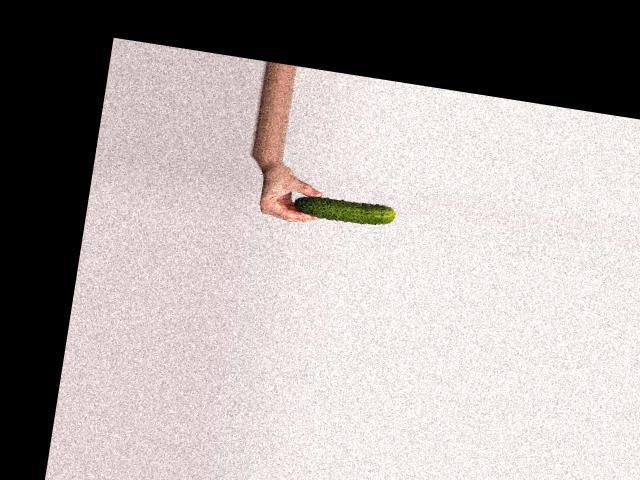cucumber: (292, 193, 395, 228)
